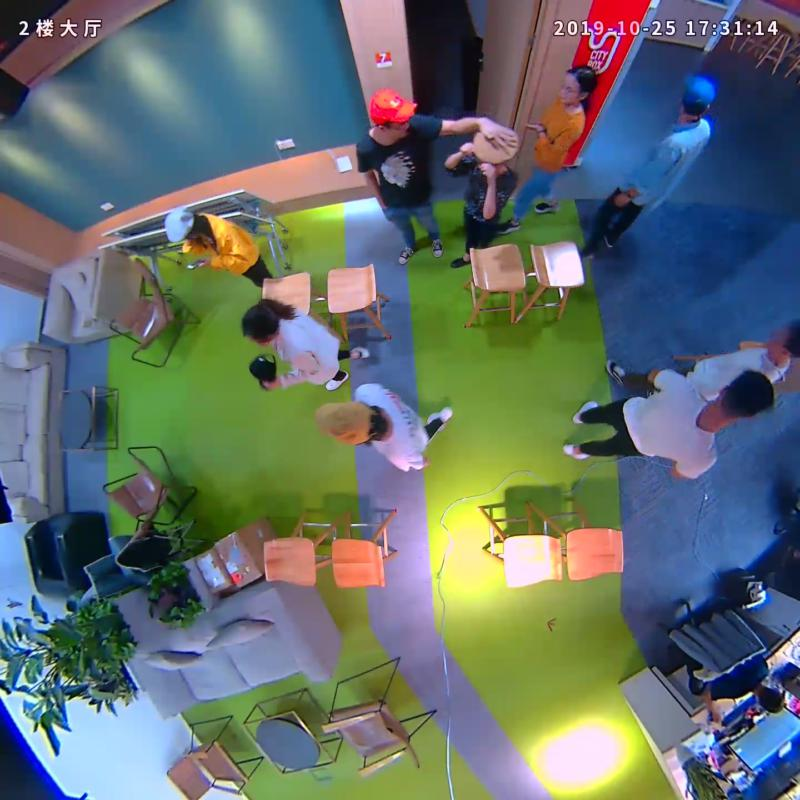head: (717, 370, 775, 423), (315, 403, 389, 444), (471, 126, 521, 177), (368, 88, 417, 140), (676, 73, 715, 120), (241, 302, 280, 344), (560, 65, 596, 105), (163, 207, 200, 244), (766, 319, 800, 359)
